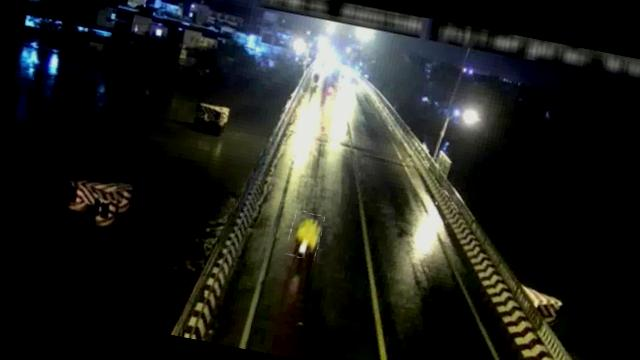Bike: (286, 210, 324, 260), (309, 70, 321, 88)
